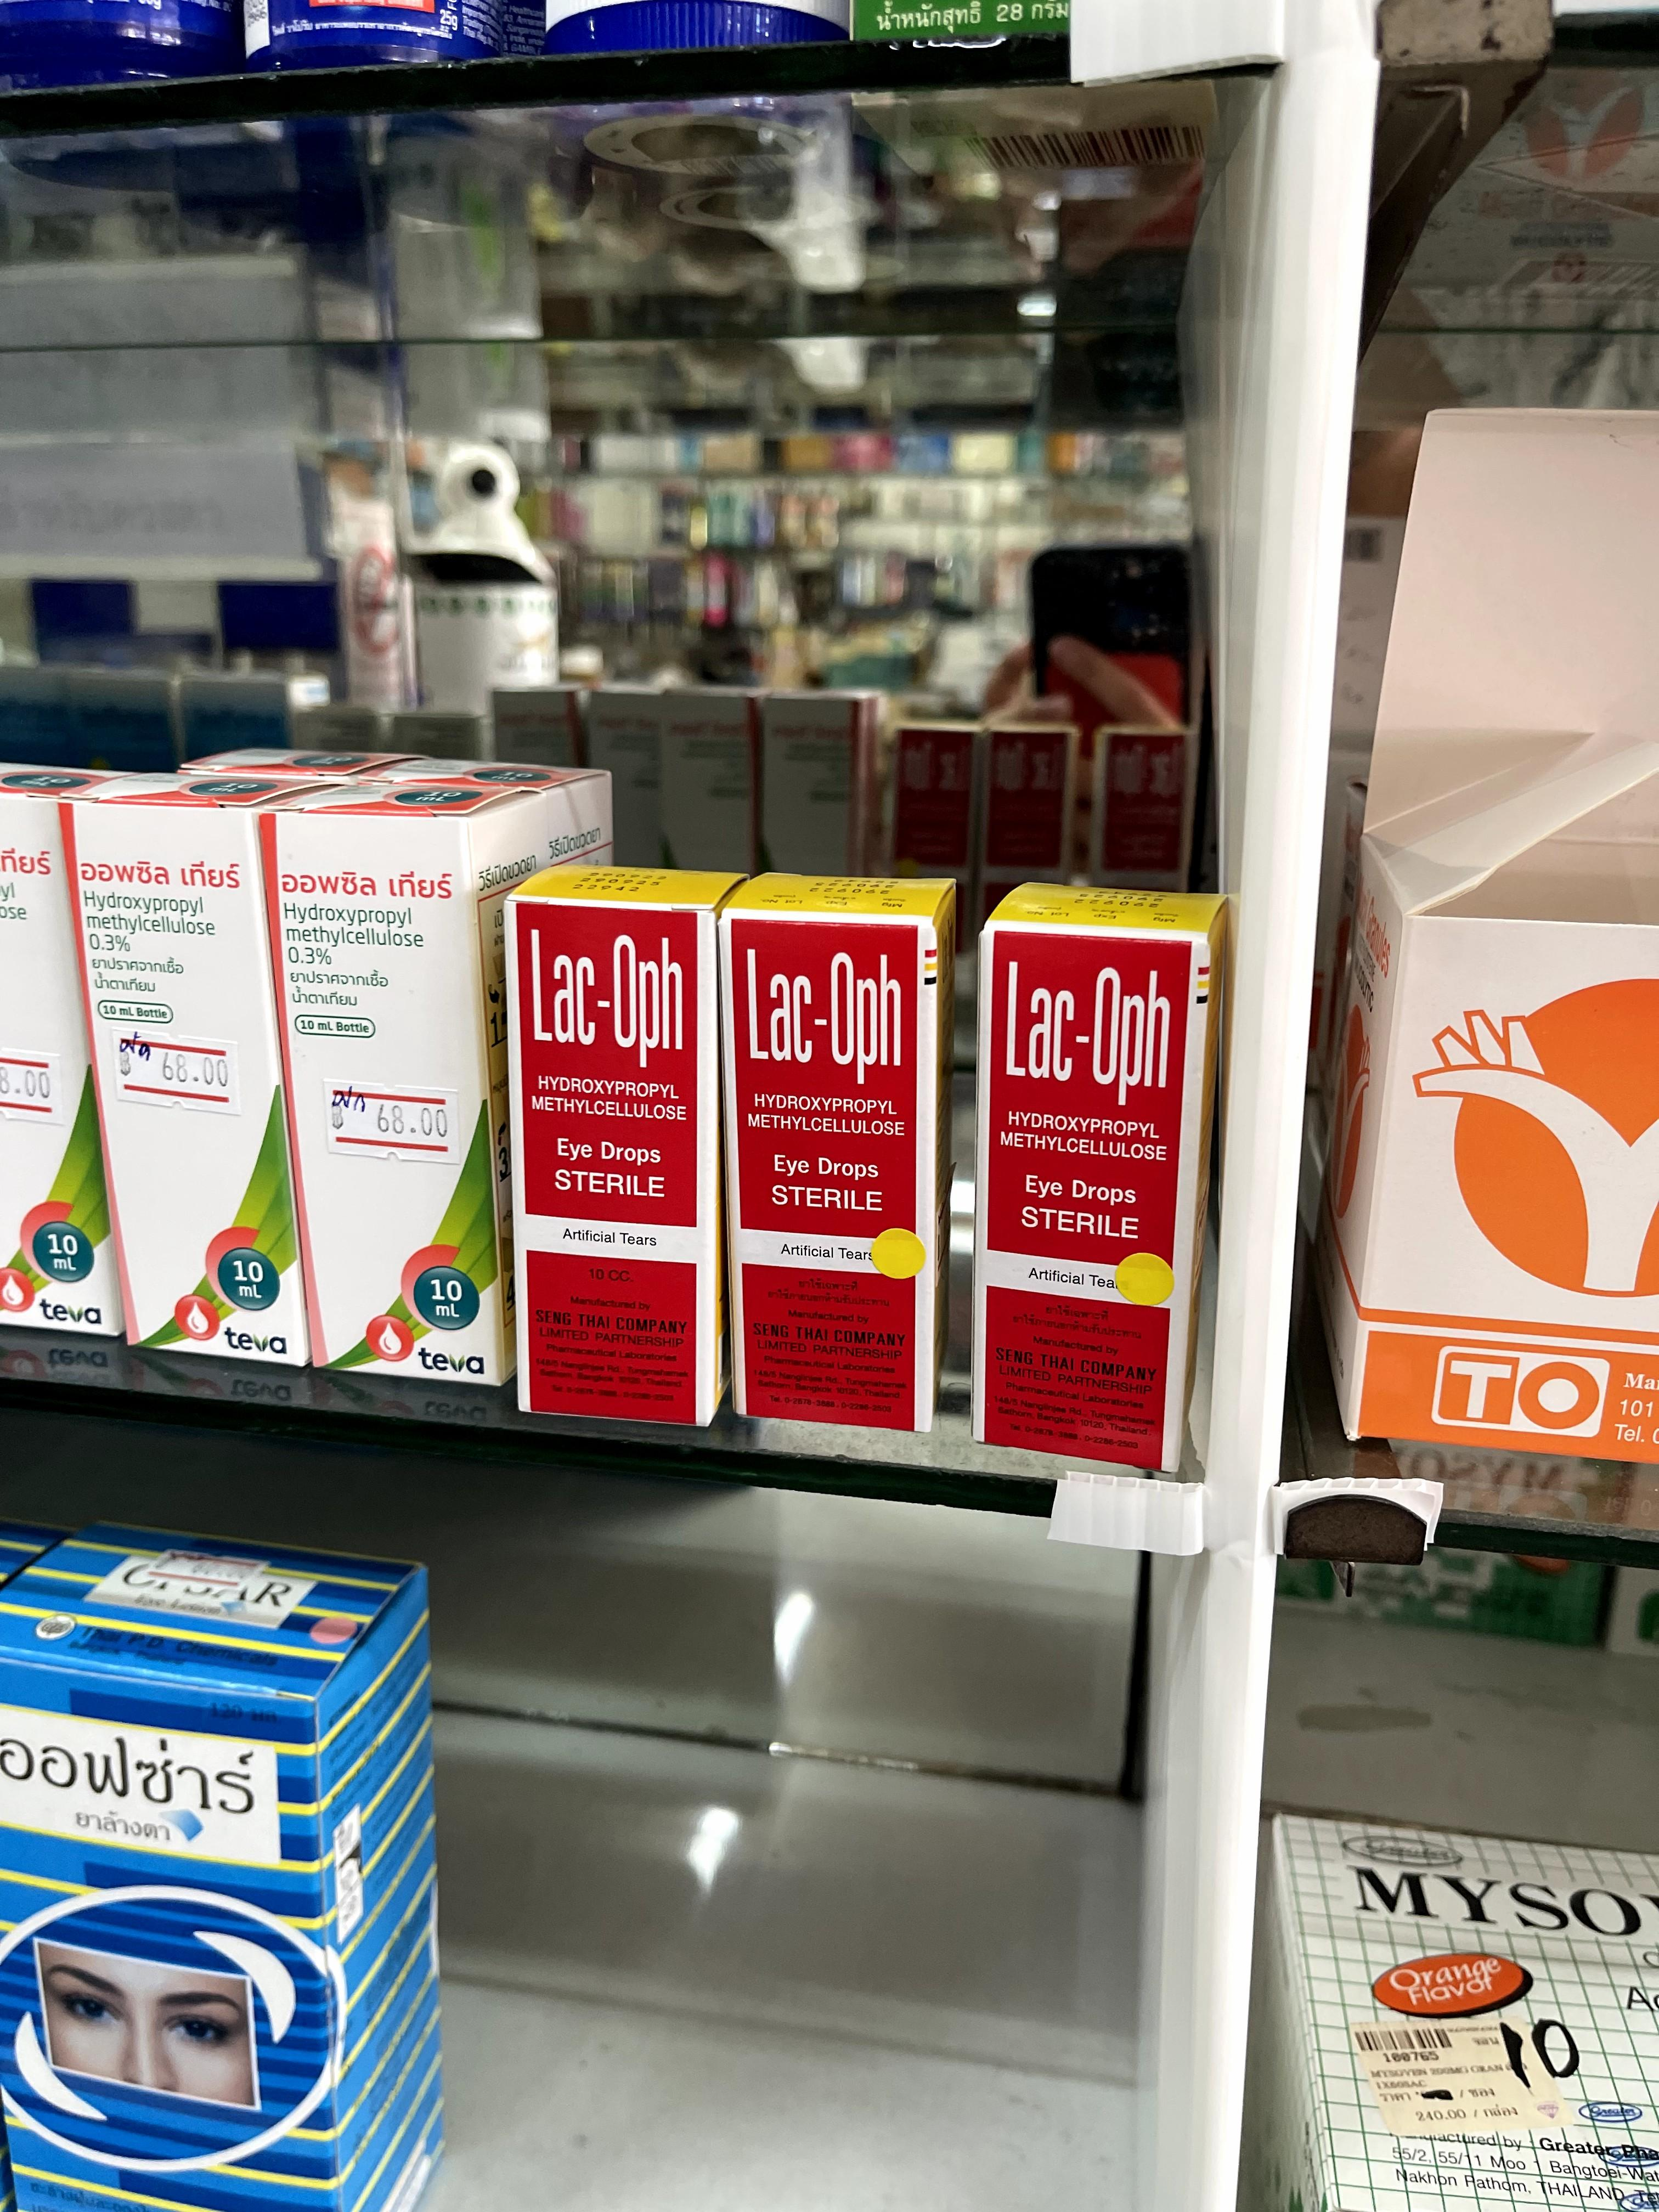Lac-Oph_Red: (985, 881, 1220, 1468), (502, 855, 721, 1435), (725, 869, 951, 1430)
Opsar: (0, 1536, 441, 2212)
